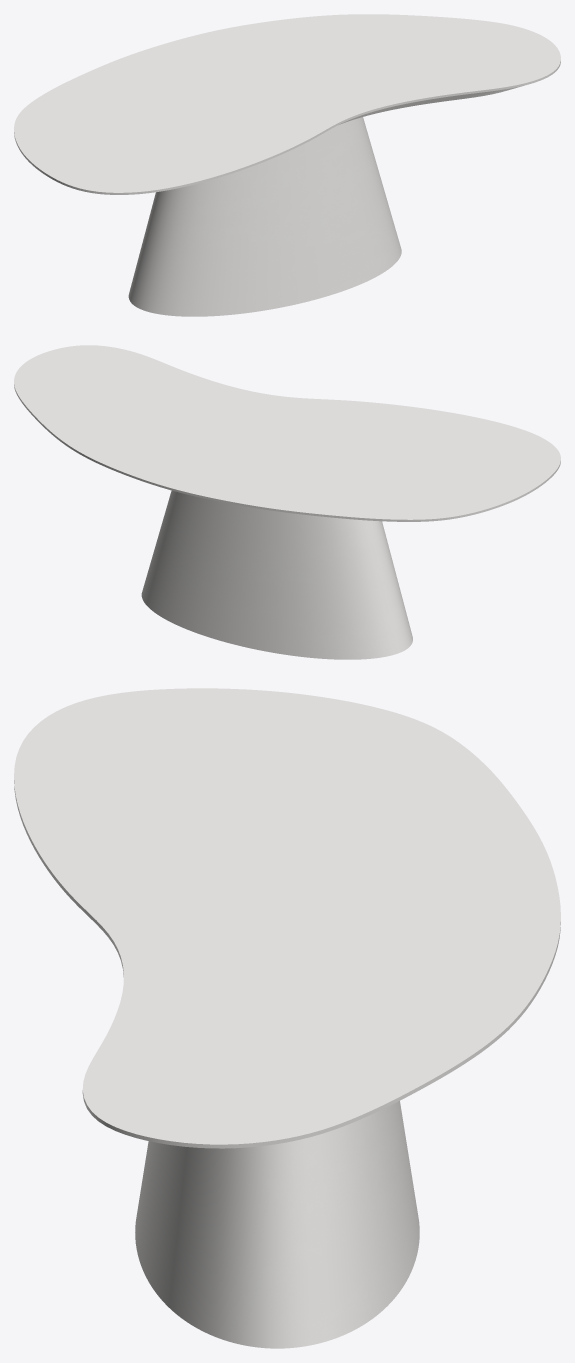
File: purewhite_leaf1_facet_eqone.glb
3 renders of one model, top to bottom at view 1: azimuth 30°, elevation 25°; view 2: azimuth 150°, elevation 25°; view 3: azimuth 270°, elevation 25°, orthographic. The views are drawn at different scales.
Visible parts, largest first — view 1: facet_leaf1, eqone; view 2: facet_leaf1, eqone; view 3: facet_leaf1, eqone.
Part boxes in pixels (x1=…): facet_leaf1: x1=14, y1=14, x2=560, y2=194; eqone: x1=128, y1=117, x2=401, y2=316; facet_leaf1: x1=14, y1=345, x2=560, y2=521; eqone: x1=141, y1=490, x2=412, y2=659; facet_leaf1: x1=14, y1=688, x2=560, y2=1148; eqone: x1=135, y1=1101, x2=419, y2=1348.
Size of the model in its own units: 7.5 by 2.5 by 3.8.
Materials: 1 (1 with a texture image).
